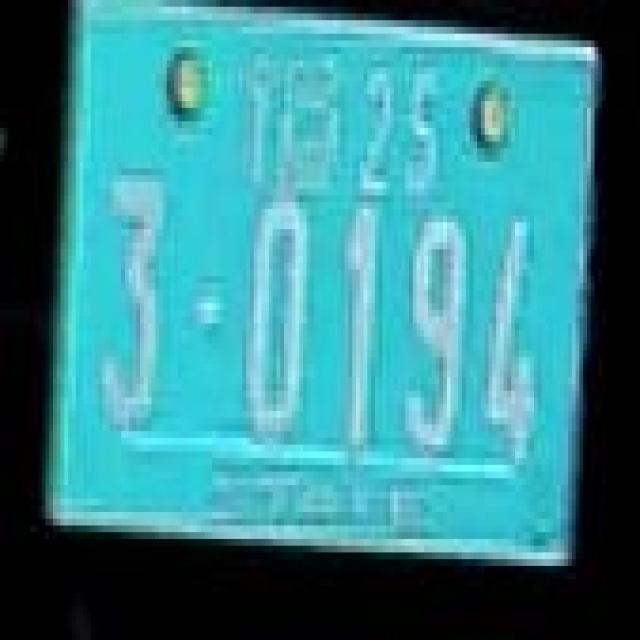State: (242, 54, 342, 200)
